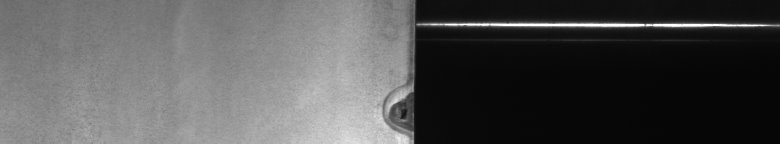hb: (374, 28, 404, 136)
